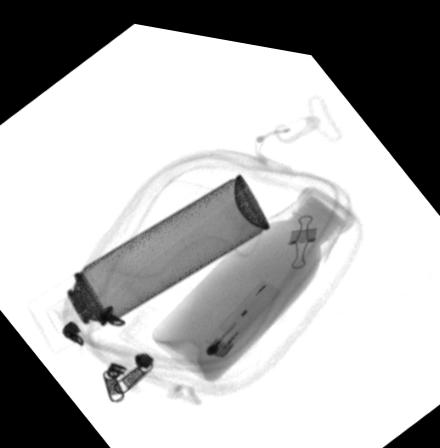Lighter: (195, 269, 282, 354)
Sprayer: (23, 164, 271, 351)
